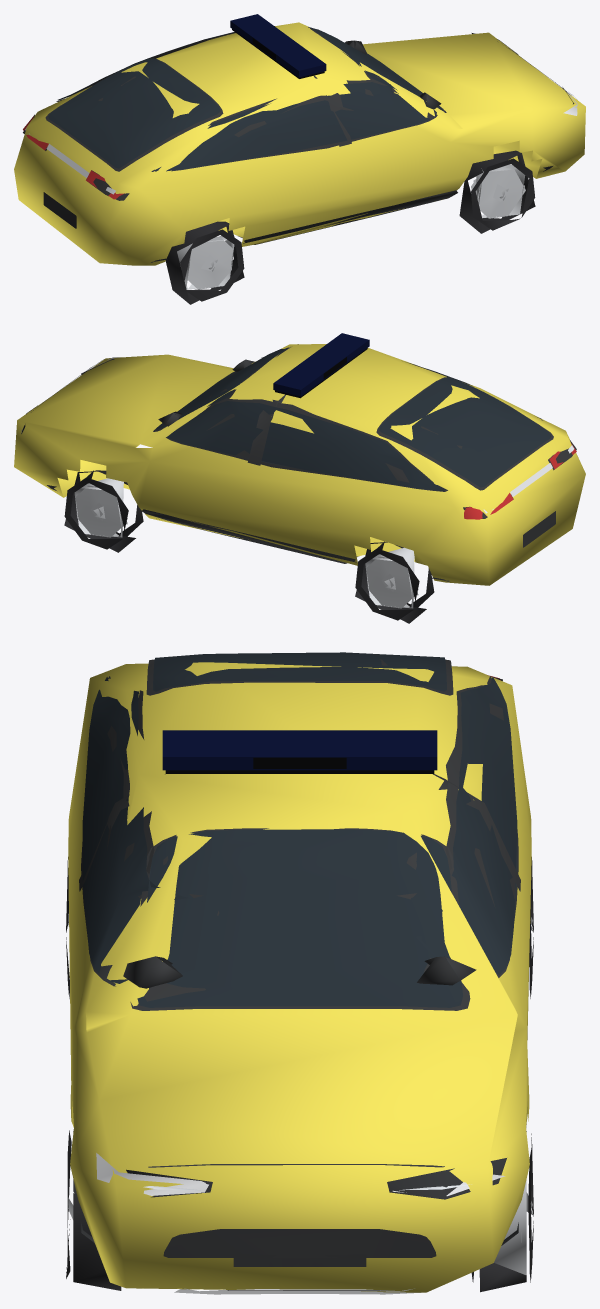
The model's file is smur_vl_ufar.glb.
The picture shows the model from 3 angles, top to bottom: view 1: azimuth 30°, elevation 25°; view 2: azimuth 150°, elevation 25°; view 3: azimuth 270°, elevation 25°; orthographic projection. The views are drawn at different scales.
Parts seen in each view (by area): view 1: Body, RearGlass, Glass-1, WheelRR, WheelFR, LightBar, WinFrame-1, Windshield, RgFrame, Clad-1, Rub-1, PlateR (+1 smaller); view 2: Body, Glass1, RearGlass, WheelRL, WheelFL, LightBar, WinFrame1, Windshield, RgFrame, Rub1, Bpillar1, Clad1 (+2 smaller); view 3: Body, Windshield, Glass1, Glass-1, LightBar, RearGlass, Intake, WheelFL, WsFrame, WheelFR, WinFrame1, HeadBezel (+10 smaller).
Part boxes in pixels (left/top/right/bottom): Body: left=14, top=22, right=585, bottom=265; RearGlass: left=48, top=58, right=220, bottom=168; Glass-1: left=154, top=79, right=436, bottom=171; WheelRR: left=165, top=221, right=244, bottom=304; WheelFR: left=459, top=150, right=535, bottom=233; LightBar: left=230, top=14, right=326, bottom=77; WinFrame-1: left=151, top=75, right=437, bottom=171; Windshield: left=308, top=27, right=443, bottom=110; RgFrame: left=45, top=58, right=223, bottom=171; Clad-1: left=151, top=166, right=552, bottom=262; Rub-1: left=243, top=194, right=453, bottom=243; PlateR: left=43, top=192, right=76, bottom=228; Body: left=14, top=344, right=585, bottom=585; Glass1: left=167, top=398, right=445, bottom=491; RearGlass: left=379, top=377, right=551, bottom=487; WheelRL: left=355, top=541, right=434, bottom=623; WheelFL: left=64, top=470, right=143, bottom=552; LightBar: left=273, top=333, right=369, bottom=396; WinFrame1: left=166, top=394, right=447, bottom=491; Windshield: left=155, top=344, right=298, bottom=429; RgFrame: left=376, top=377, right=553, bottom=490; Rub1: left=145, top=512, right=356, bottom=562; Bpillar1: left=247, top=394, right=285, bottom=465; Clad1: left=47, top=485, right=449, bottom=581; Body: left=68, top=662, right=531, bottom=1292; Windshield: left=137, top=829, right=462, bottom=1007; Glass1: left=380, top=677, right=517, bottom=974; Glass-1: left=82, top=677, right=202, bottom=983; LightBar: left=162, top=730, right=437, bottom=770; RearGlass: left=153, top=652, right=446, bottom=691; Intake: left=163, top=1229, right=436, bottom=1258; WheelFL: left=471, top=1131, right=533, bottom=1292; WsFrame: left=130, top=828, right=470, bottom=1010; WheelFR: left=66, top=1130, right=121, bottom=1290; WinFrame1: left=397, top=676, right=518, bottom=977; HeadBezel: left=126, top=1158, right=506, bottom=1199.
Size of the model in its own units: 4.56 by 1.68 by 1.91.
